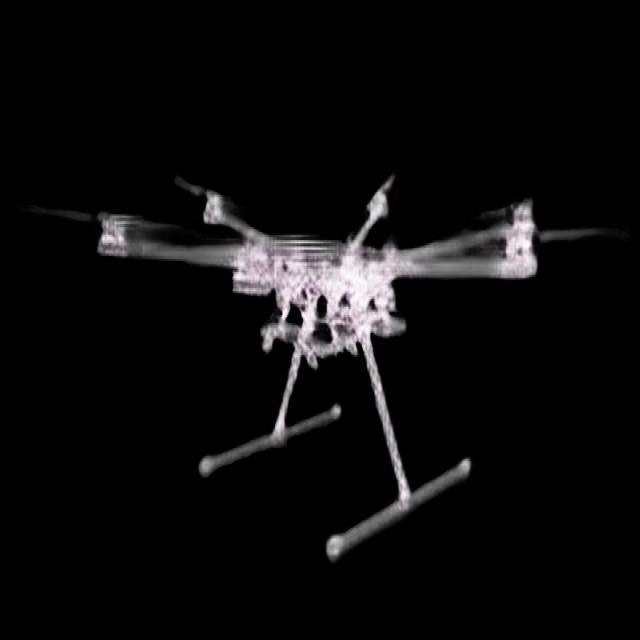drone: (5, 162, 632, 564)
